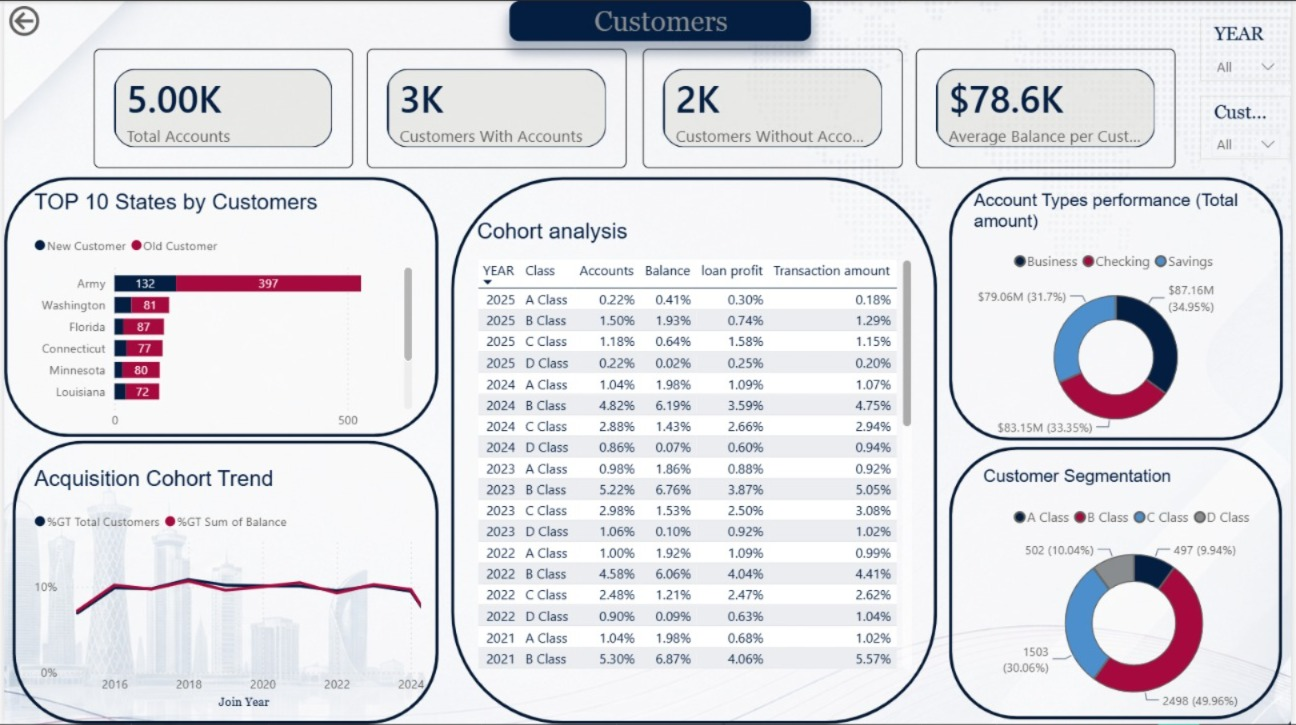

Layout of this report page (visuals, bound fields, positions):
{"tool":"powerbi","page":{"name":"Customers ","canvas":[1280,720],"ordinal":2},"visuals":[{"type":"shape","box":[444.7,175.5,483.3,544.2],"z":0},{"type":"shape","box":[8.2,437.7,423.6,282],"z":1000},{"type":"shape","box":[939.7,443.5,331.2,271.1],"z":2000},{"type":"shape","box":[939.7,175.5,332.3,262.1],"z":3000},{"type":"shape","box":[0,175.5,431.8,258.6],"z":4000},{"type":"barChart","title":"TOP 10 States by Customers","fields":{"Category":["Customers.State"],"Series":["Customers.Customer Type"],"Y":["CountNonNull(Accounts.AccountID)"]},"box":[25,187.1,386,247.7],"z":5000},{"type":"donutChart","title":"Customer Segmentation","fields":{"Category":["Accounts.Customer Segment"],"Y":["Measure.Total Accounts"]},"box":[969,462.2,310.1,252.8],"z":6000},{"type":"donutChart","title":"Account Types performance (Total amount)","fields":{"Category":["Accounts.AccountType"],"Y":["Sum(Accounts.Balance)"]},"box":[959.6,187.2,292.6,252.9],"z":7000},{"type":"cardVisual","fields":{"Data":["Measure.Total Accounts"]},"box":[88.9,48,257.5,118.2],"z":8000},{"type":"cardVisual","fields":{"Data":["Measure.Customers Without Accounts"]},"box":[635,47.6,258.1,118.6],"z":9000},{"type":"cardVisual","fields":{"Data":["Measure.Customers With Accounts"]},"box":[360.4,48,258,118],"z":10000},{"type":"cardVisual","fields":{"Data":["Measure.Average Balance per Customer"]},"box":[907,47.6,258,118],"z":11000},{"type":"lineChart","title":"Acquisition Cohort Trend","fields":{"Category":["Customers.Join Year"],"Y":["Measure.Total Customers","Divide(Sum(Accounts.Balance), ScopedEval(Sum(Accounts.Balance), []))"]},"box":[24.6,462.2,397.7,246.5],"z":12000},{"type":"textbox","title":"Customers","box":[502.5,0,300,40],"z":13000},{"type":"slicer","fields":{"Values":["Calendar.YEAR"]},"box":[1190,17,90.7,63],"z":14000},{"type":"slicer","fields":{"Values":["Accounts.Customer Segment"]},"box":[1190,94.1,90.7,63.5],"z":15000},{"type":"tableEx","title":"Cohort analysis","fields":{"Values":["Calendar.YEAR","Accounts.Customer Segment","Measure.Total Accounts","Measure.Total Balance","Sum(Loans.loan profit)","Sum(Transactions.Amount)"]},"box":[465.8,216.5,442.3,452.9],"z":16000},{"type":"actionButton","box":[0,0,44.2,39.7],"z":17000}]}

Visuals, with their boxes in screenshot pixels (x1, y1, x2, y2), scaled from the page's 1280x720 canvas onto the 1296x725 screenshot:
shape: <box>450,177,940,724</box>
shape: <box>8,441,437,724</box>
shape: <box>951,447,1287,720</box>
shape: <box>951,177,1288,441</box>
shape: <box>0,177,437,437</box>
"TOP 10 States by Customers" barChart: <box>25,188,416,438</box>
"Customer Segmentation" donutChart: <box>981,465,1295,720</box>
"Account Types performance (Total amount)" donutChart: <box>972,188,1268,443</box>
cardVisual - Measure.Total Accounts: <box>90,48,351,167</box>
cardVisual - Measure.Customers Without Accounts: <box>643,48,904,167</box>
cardVisual - Measure.Customers With Accounts: <box>365,48,626,167</box>
cardVisual - Measure.Average Balance per Customer: <box>918,48,1180,167</box>
"Acquisition Cohort Trend" lineChart: <box>25,465,428,714</box>
"Customers" textbox: <box>509,0,813,40</box>
slicer - Calendar.YEAR: <box>1205,17,1295,81</box>
slicer - Accounts.Customer Segment: <box>1205,95,1295,159</box>
"Cohort analysis" tableEx: <box>472,218,919,674</box>
actionButton: <box>0,0,45,40</box>
